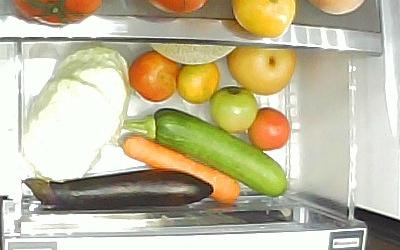cabbage: (21, 46, 130, 180)
carrot: (119, 134, 242, 206)
eggplant: (22, 168, 213, 210)
melon: (148, 42, 237, 65)
pear: (227, 46, 299, 96)
prune: (129, 51, 180, 102)
tangerine: (178, 60, 220, 105)
tomato: (211, 86, 259, 135), (248, 108, 292, 151)
zucchini: (121, 106, 289, 197)
